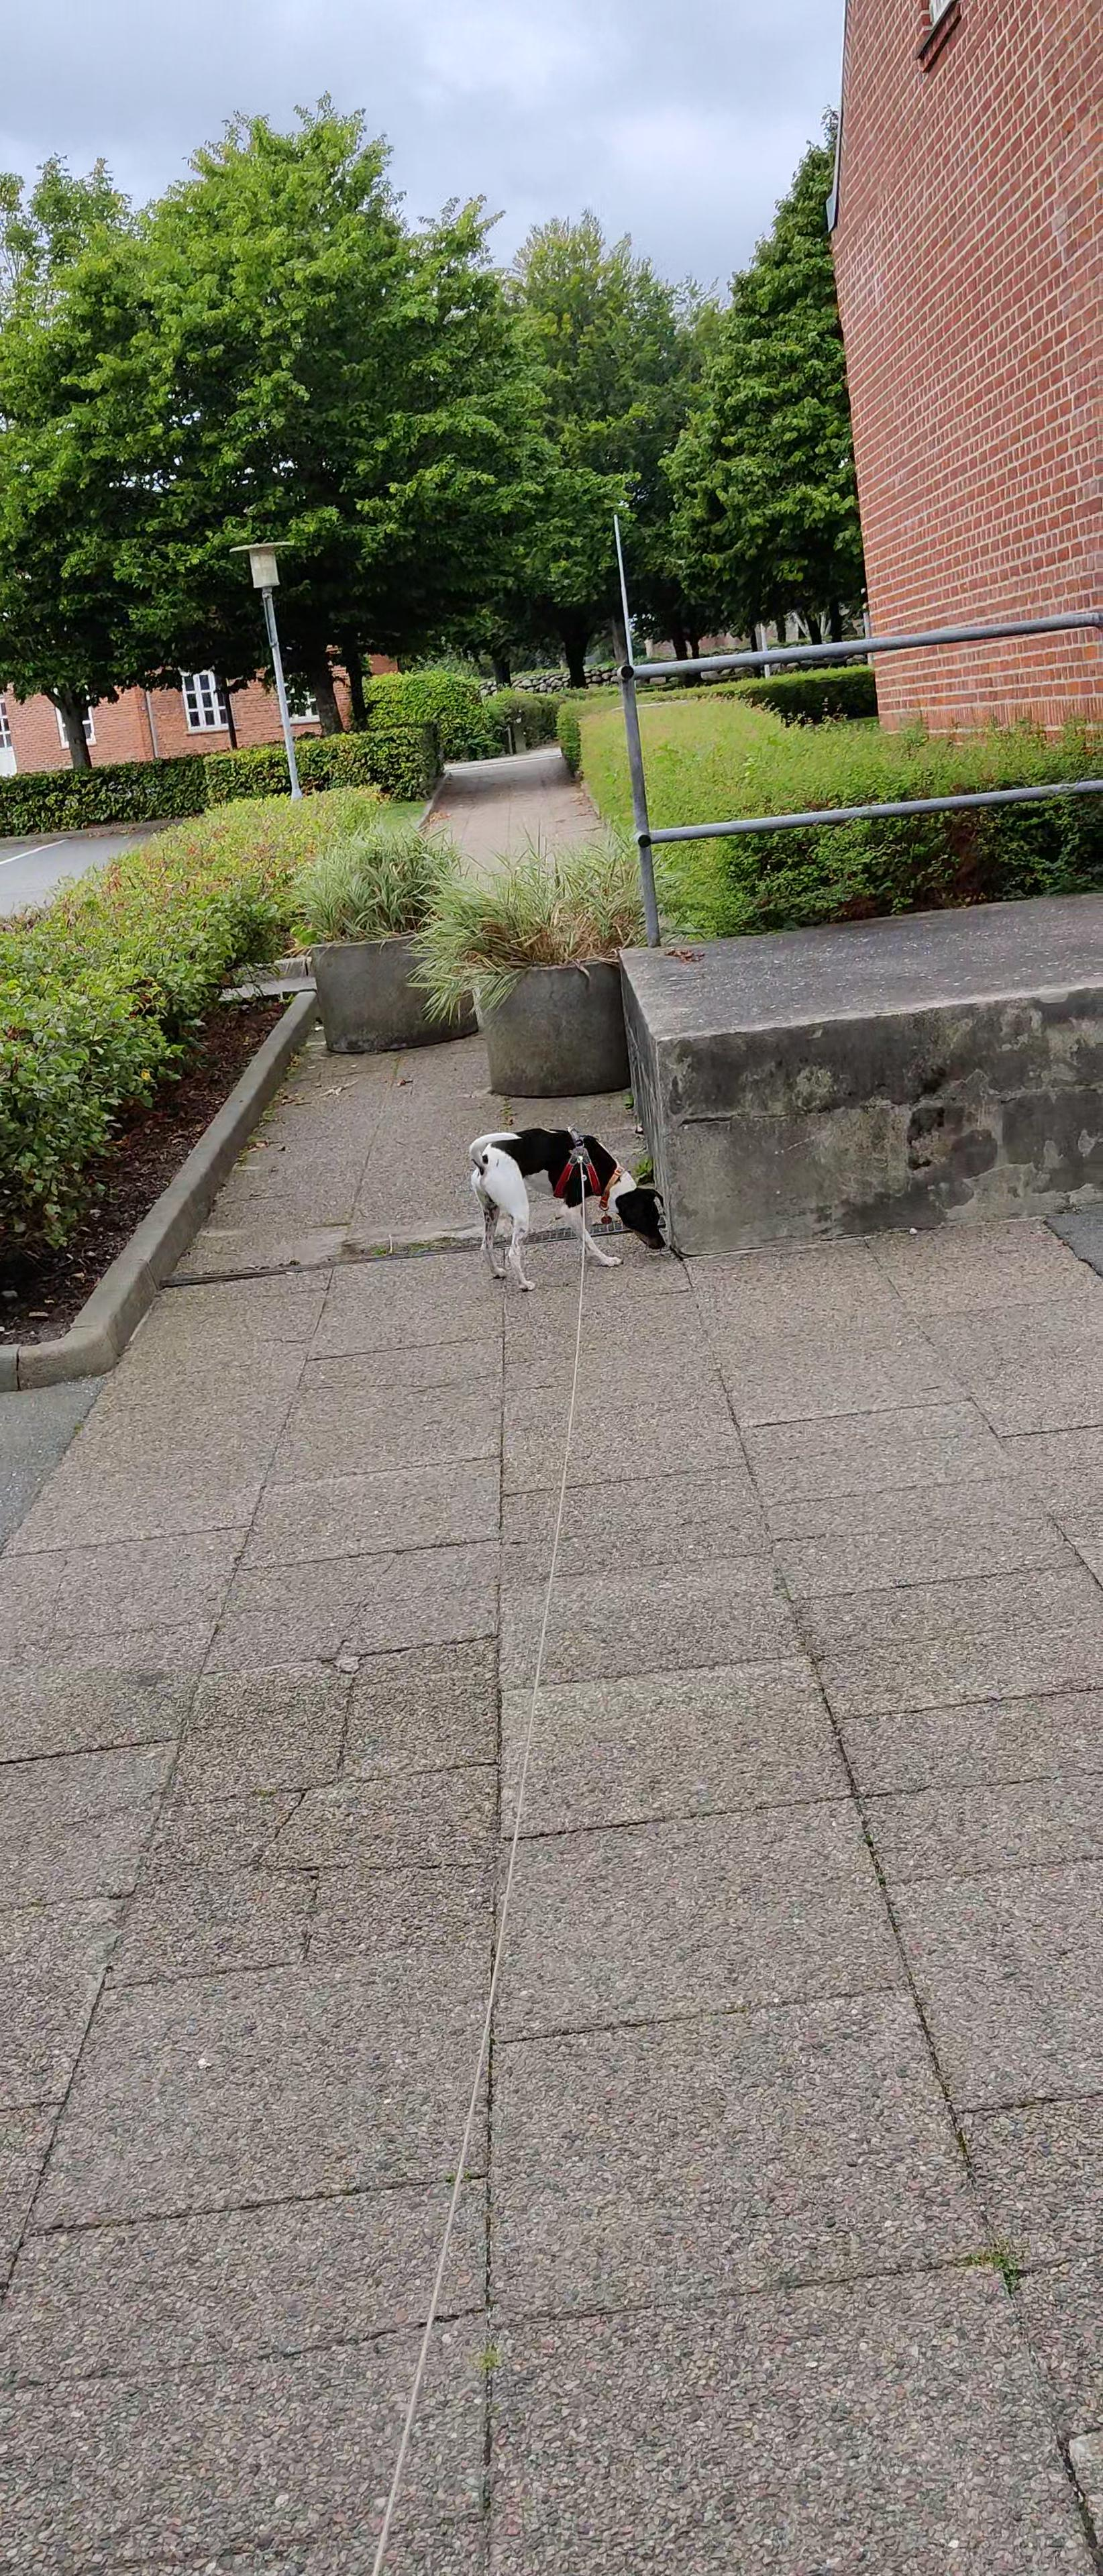Dog: (464, 1124, 671, 1298)
